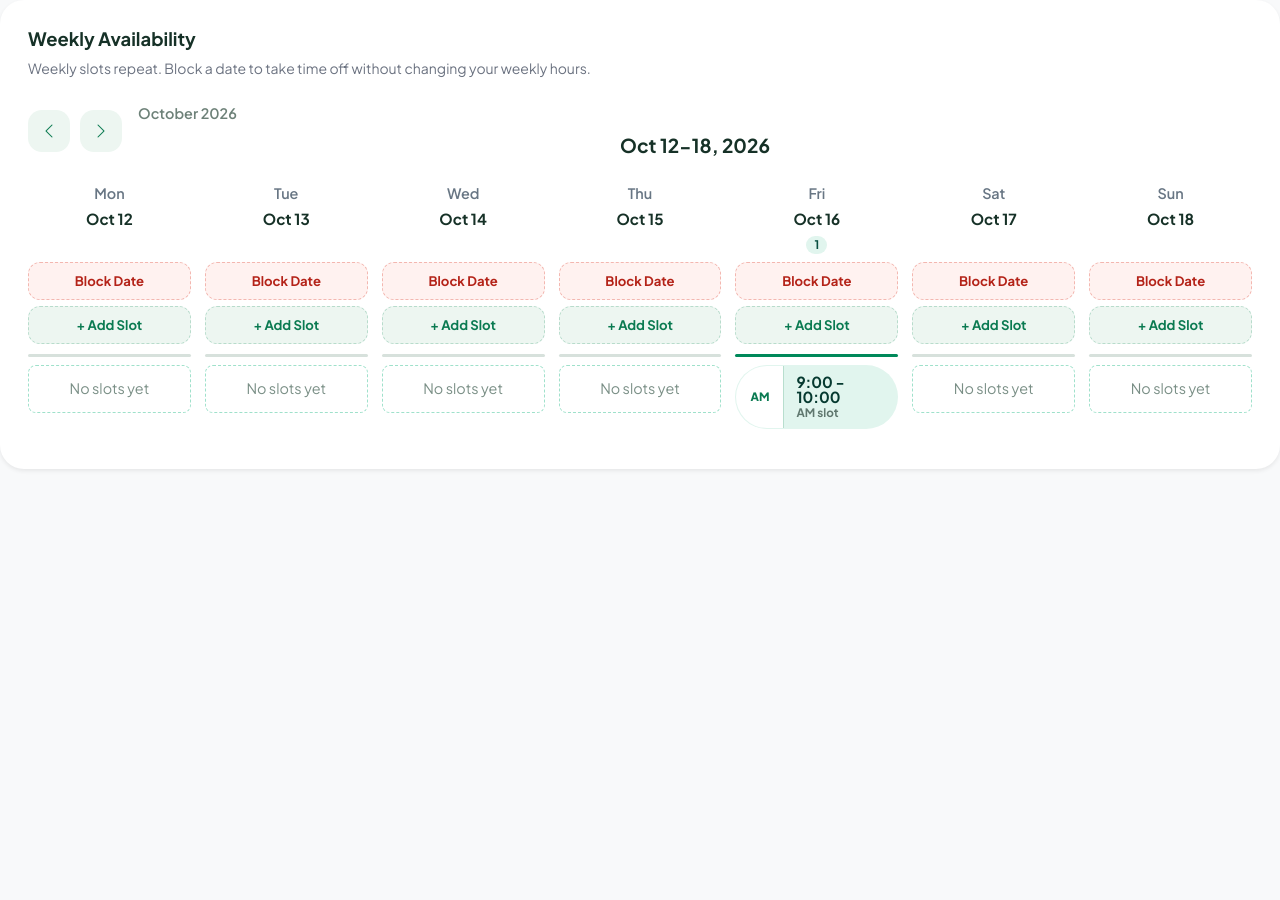
Scenario: Recurring availability deletion › deletes the recurring slot only after confirmation
The image size is (1280, 900).
What coordinates should you click on to do the following:
click the button with class "slot-pill"
I would click on:
 (817, 397)
Its box is [735,365,898,429].
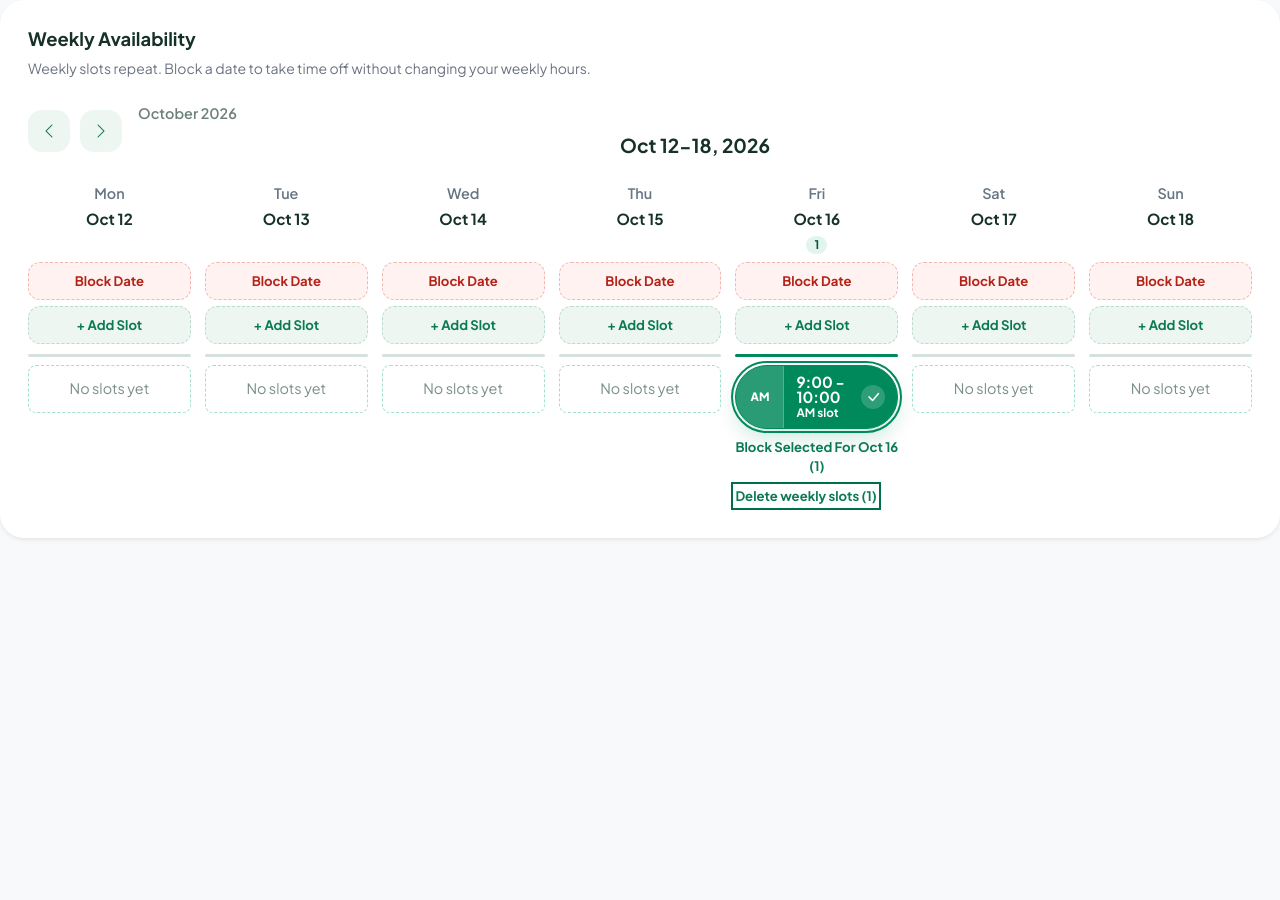
What coordinates should you click on to do the following:
click the button "Delete weekly slots (1)"
I would click on:
 (806, 496)
Its box is [735,486,877,506].
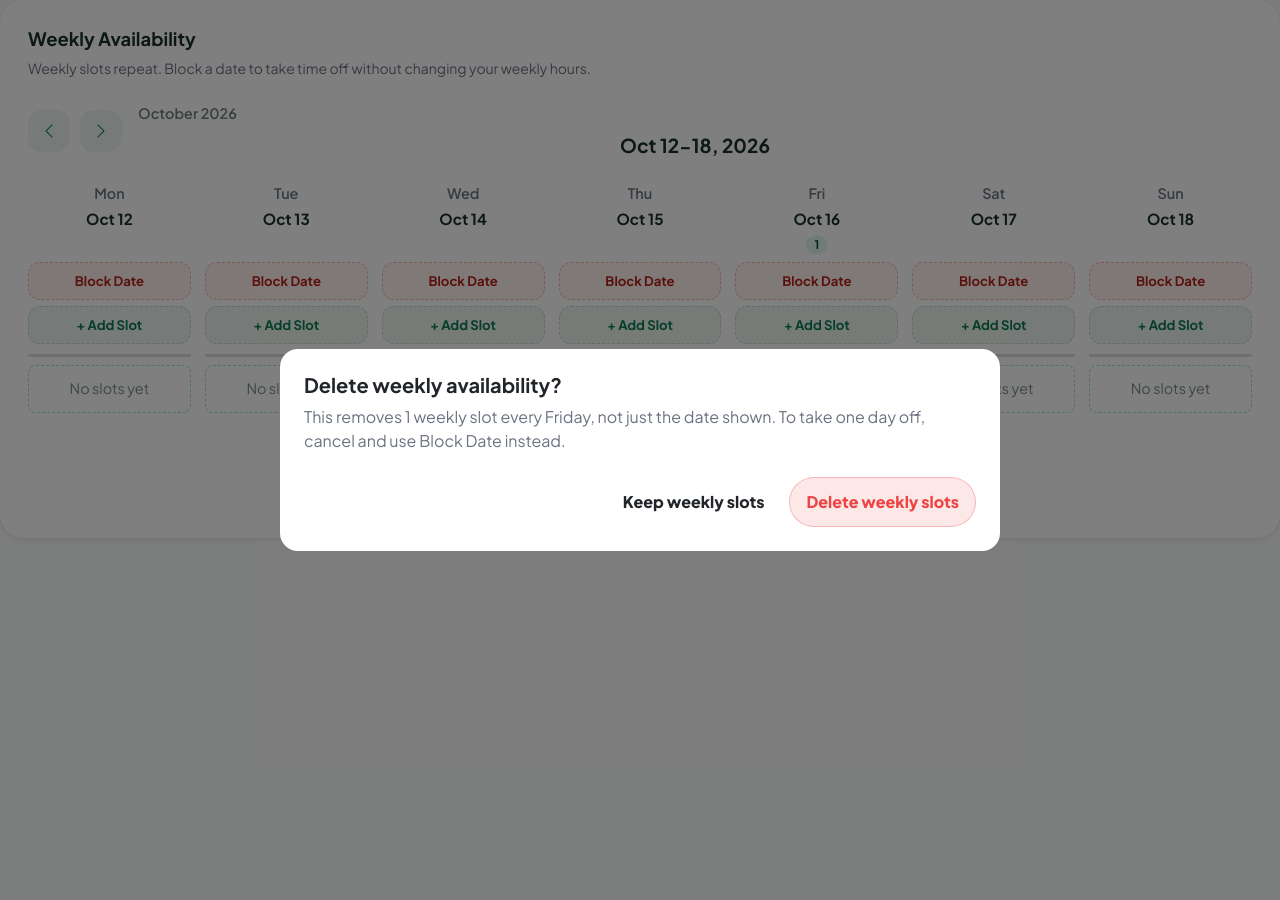
What coordinates should you click on to do the following:
click the button "Delete weekly slots"
I would click on:
 (883, 502)
Its box is [789,478,976,526].
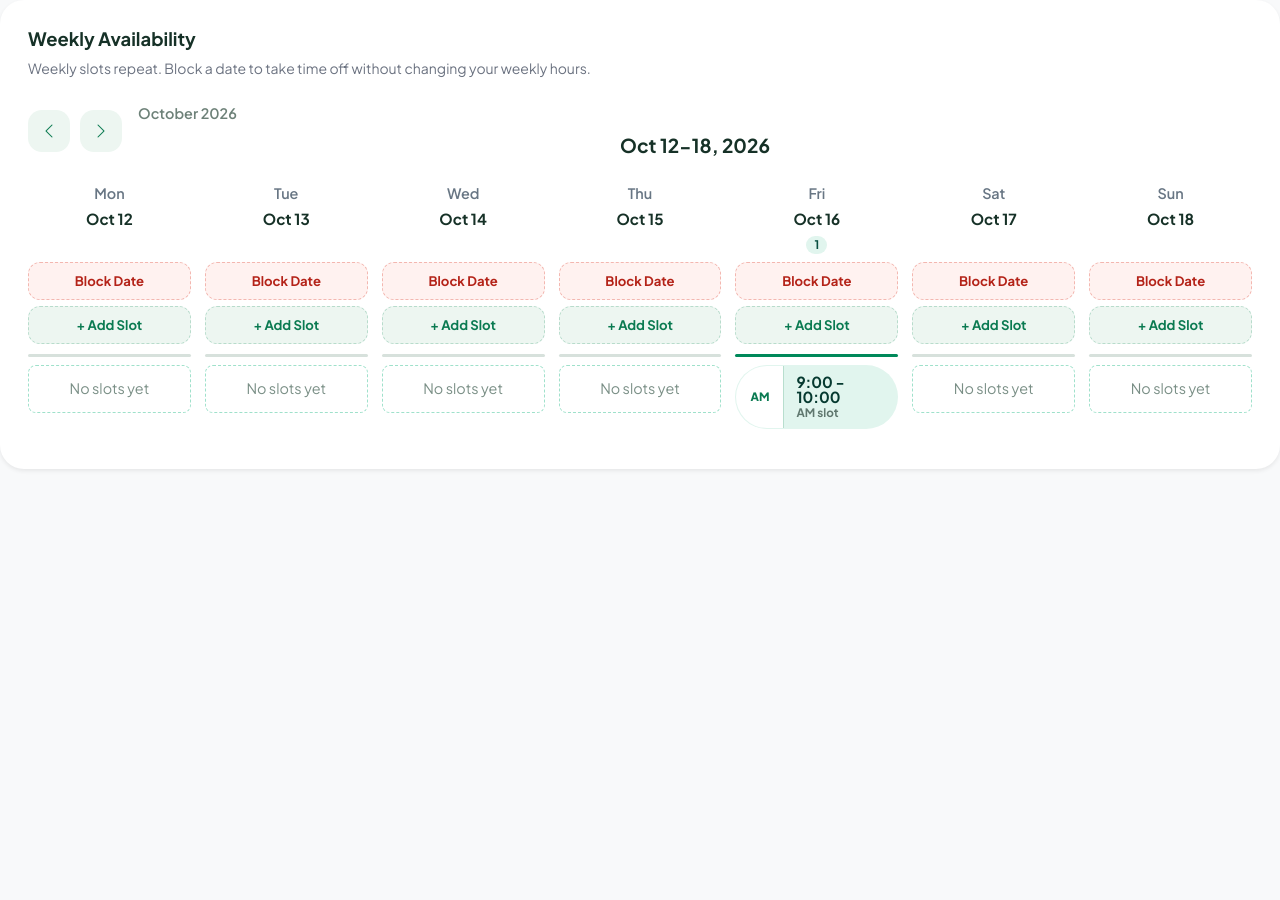
Now the heading with id "delete-weekly-title" is gone
